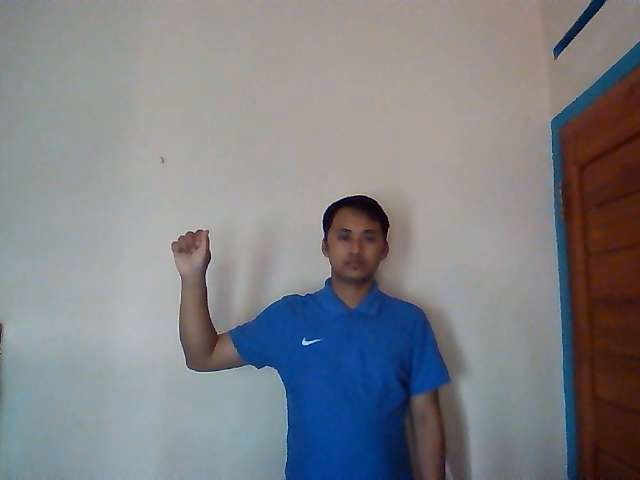A: (170, 228, 212, 275)
